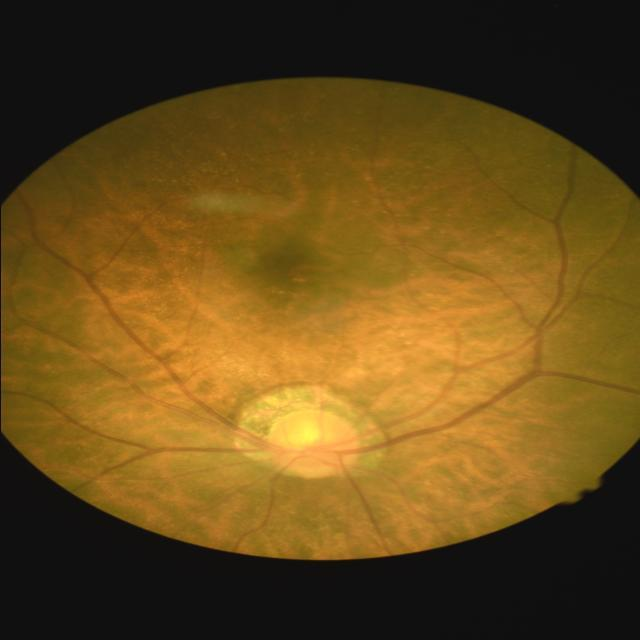cup: (284, 422, 336, 456)
disk: (265, 408, 359, 481)
